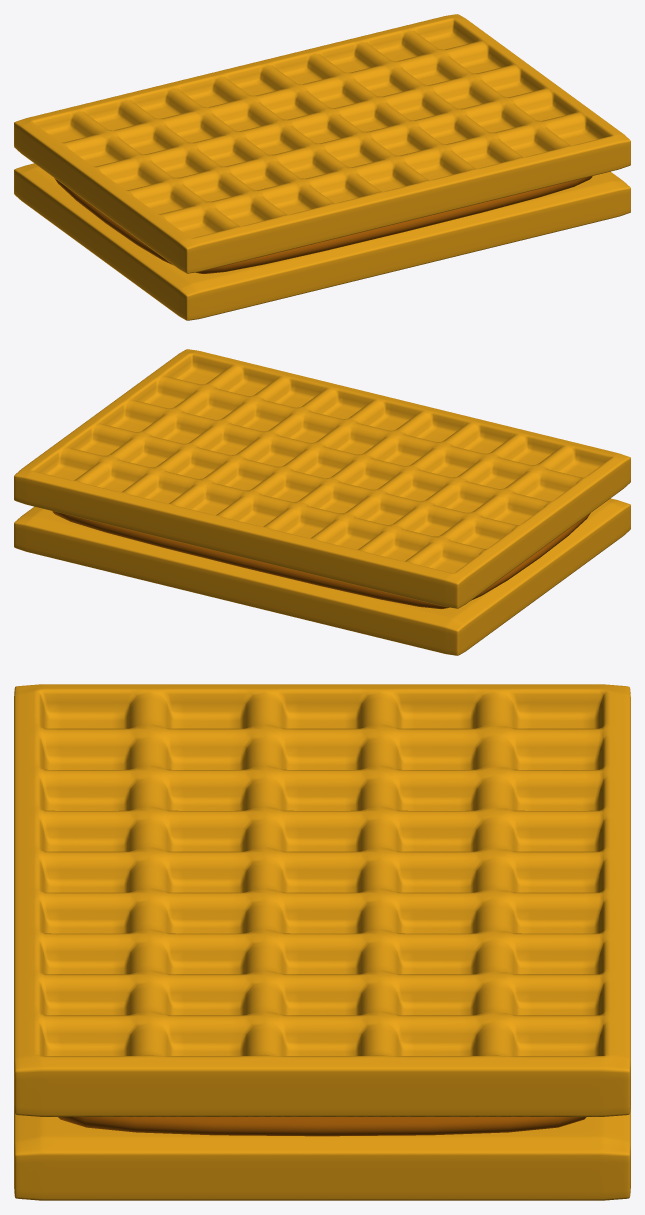
File: Waffle.fbx
3 views of the same model, one above another, from view 1: azimuth 30°, elevation 25°; view 2: azimuth 150°, elevation 25°; view 3: azimuth 270°, elevation 25° (orthographic). The views are drawn at different scales.
Parts seen in each view (by area): view 1: Cube.014; view 2: Cube.014; view 3: Cube.014.
Boxes of the visible parts, x1,y1,x2,y2 form: Cube.014: [14, 14, 630, 320]; Cube.014: [14, 349, 630, 655]; Cube.014: [14, 684, 630, 1200].
Bounding box in the file's own units: 5.91 × 1 × 4.
